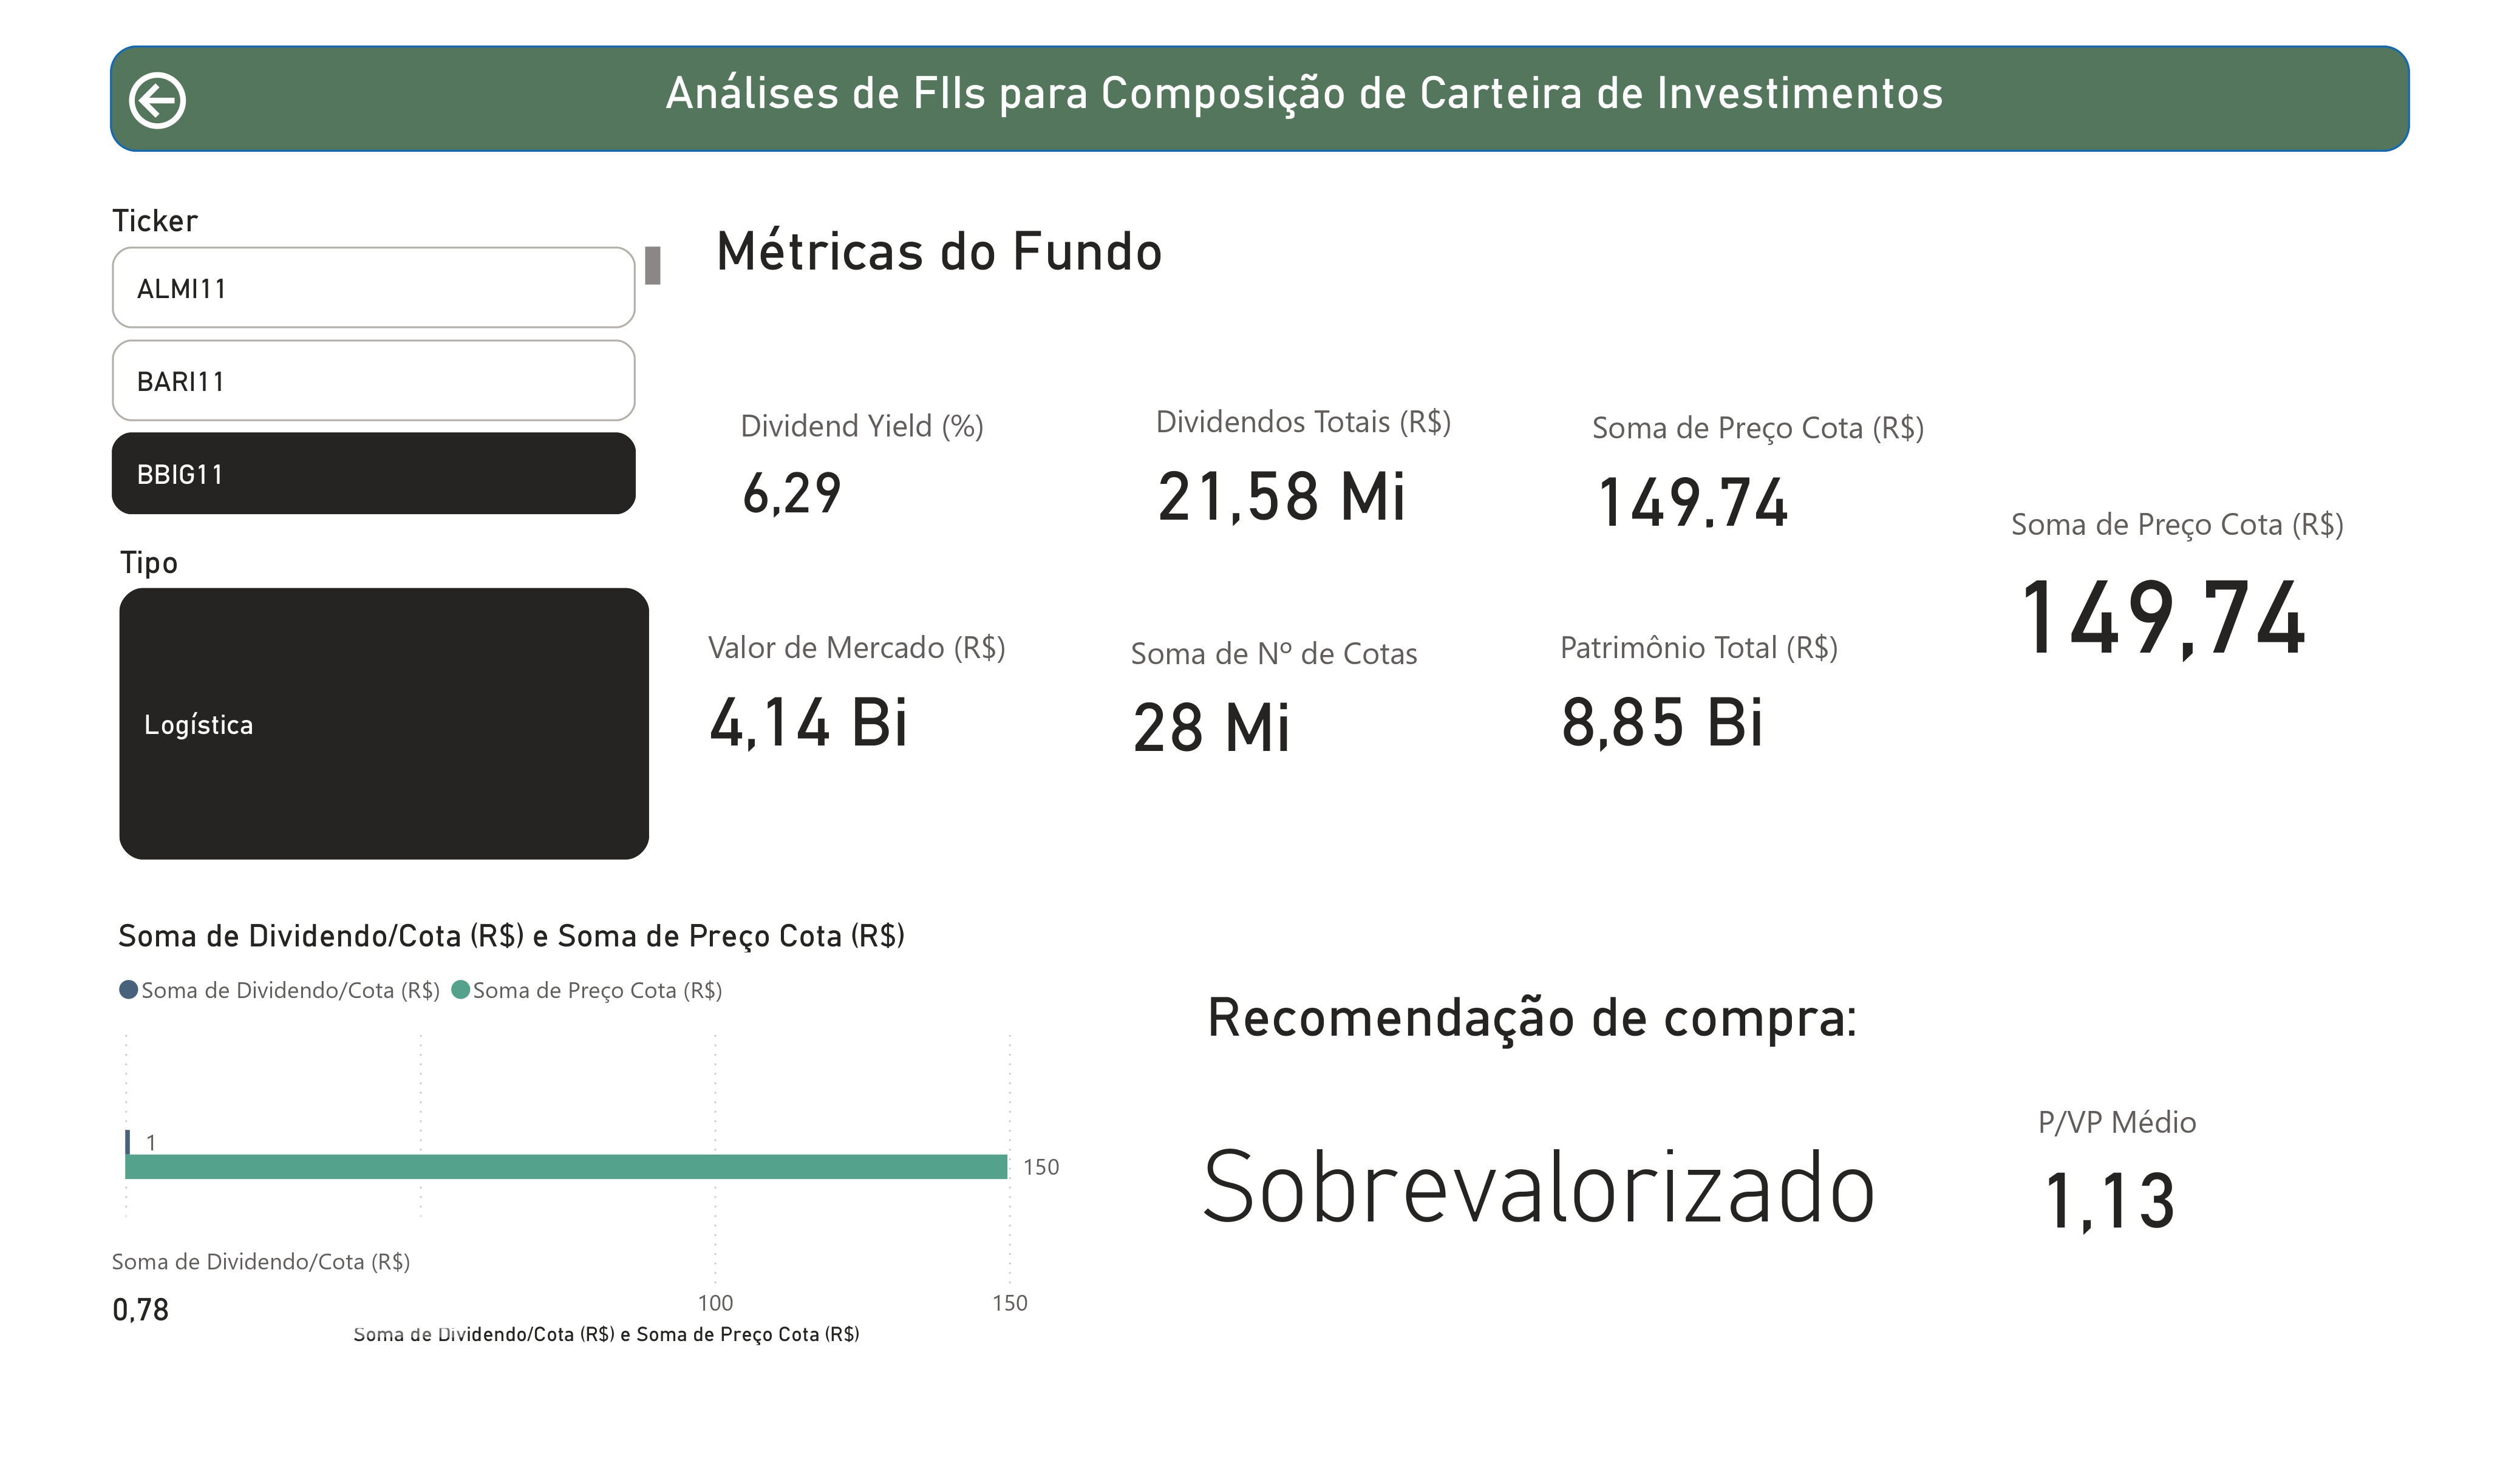

The dashboard page shown, as its layout file describes it:
{"tool":"powerbi","page":{"name":"Página 1","canvas":[1280,720],"ordinal":0},"visuals":[{"type":"shape","box":[34,0,1211.6,56.4],"z":0},{"type":"clusteredBarChart","fields":{"Y":["Sum(Sheet1.Dividendo/Cota (R$))","Sum(Sheet1.Preço Cota (R$))"]},"box":[33.1,459.4,531,230.1],"z":1000},{"type":"cardVisual","fields":{"Data":["Sheet1.Dividend Yield (%)"]},"box":[348.3,171,165.1,90.5],"z":2000},{"type":"cardVisual","fields":{"Data":["Sheet1.Dividendos Totais (R$)"]},"box":[567.5,168.7,192.2,95.2],"z":3000},{"type":"advancedSlicerVisual","fields":{"Values":["Sheet1.Ticker"]},"box":[29.6,82.4,299.1,171.9],"z":4000},{"type":"advancedSlicerVisual","fields":{"Values":["Sheet1.Tipo"]},"box":[34,262.4,289.3,172.8],"z":5000},{"type":"textbox","box":[607.2,489.9,364.5,54.6],"z":6000},{"type":"cardVisual","fields":{"Data":["Sheet1.Status Investimento"]},"box":[591.3,544.1,397.4,91.4],"z":7000},{"type":"textbox","box":[348.3,85.8,260.3,60.6],"z":8000},{"type":"cardVisual","fields":{"Data":["Sheet1.P/VP Médio"]},"box":[1031.6,538.2,139.7,97.6],"z":9000},{"type":"textbox","box":[312,6,703,50],"z":10000},{"type":"cardVisual","fields":{"Data":["Sum(Sheet1.Preço Cota (R$))"]},"box":[797,172,214.6,88.6],"z":11000},{"type":"cardVisual","fields":{"Data":["Sheet1.Valor de Mercado (R$)"]},"box":[331.2,287.8,195.9,95.2],"z":12000},{"type":"cardVisual","fields":{"Data":["Sum(Sheet1.Nº de Cotas)"]},"box":[554.2,291.1,188.5,88.6],"z":13000},{"type":"cardVisual","fields":{"Data":["Sheet1.Patrimônio Total (R$)"]},"box":[780,287.5,191.3,98],"z":14000},{"type":"cardVisual","fields":{"Data":["Sum(Sheet1.Dividendo/Cota (R$))"]},"box":[38.2,600.9,204.5,68.2],"z":15000},{"type":"cardVisual","fields":{"Data":["Sum(Sheet1.Preço Cota (R$))"]},"box":[1018.2,209.6,227.5,150.4],"z":16000},{"type":"actionButton","box":[38.5,9,41.2,40.3],"z":17000}]}

Visuals, with their boxes in screenshot pixels (x1, y1, x2, y2):
shape: Rect(110, 46, 2409, 152)
clusteredBarChart - Sum(Sheet1.Dividendo/Cota (R$)) x Sum(Sheet1.Preço Cota (R$)): Rect(108, 917, 1116, 1354)
cardVisual - Sheet1.Dividend Yield (%): Rect(706, 370, 1020, 542)
cardVisual - Sheet1.Dividendos Totais (R$): Rect(1122, 365, 1487, 546)
advancedSlicerVisual - Sheet1.Ticker: Rect(102, 202, 669, 528)
advancedSlicerVisual - Sheet1.Tipo: Rect(110, 543, 659, 871)
textbox: Rect(1198, 975, 1890, 1079)
cardVisual - Sheet1.Status Investimento: Rect(1168, 1078, 1922, 1251)
textbox: Rect(706, 208, 1200, 323)
cardVisual - Sheet1.P/VP Médio: Rect(2003, 1067, 2268, 1252)
textbox: Rect(638, 57, 1972, 152)
cardVisual - Sum(Sheet1.Preço Cota (R$)): Rect(1558, 372, 1965, 540)
cardVisual - Sheet1.Valor de Mercado (R$): Rect(674, 591, 1046, 772)
cardVisual - Sum(Sheet1.Nº de Cotas): Rect(1097, 598, 1455, 766)
cardVisual - Sheet1.Patrimônio Total (R$): Rect(1525, 591, 1888, 777)
cardVisual - Sum(Sheet1.Dividendo/Cota (R$)): Rect(118, 1186, 506, 1315)
cardVisual - Sum(Sheet1.Preço Cota (R$)): Rect(1978, 443, 2409, 728)
actionButton: Rect(118, 63, 197, 139)
